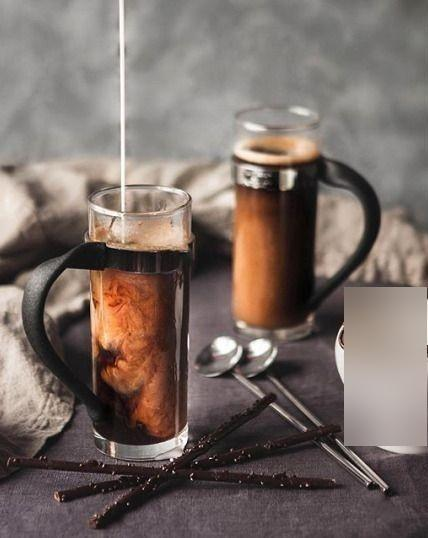glass-mug: (19, 183, 199, 464), (230, 100, 387, 340)
